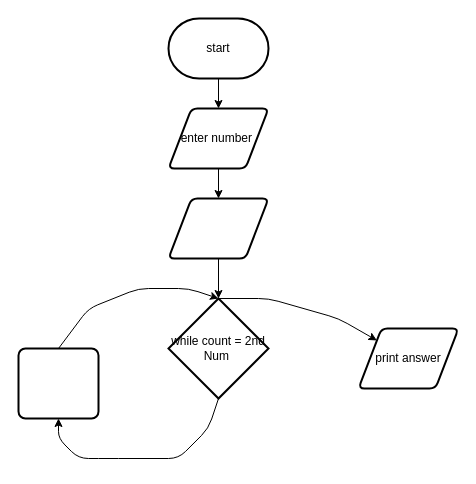
Some shapes in this 476 by 484 pixel diagram are drawn without their labels. Here are the shapes that lost their labels. From the top down, the box of each, then its label:
(167, 197, 269, 259): 2nd number
(17, 347, 99, 419): + 1st number
